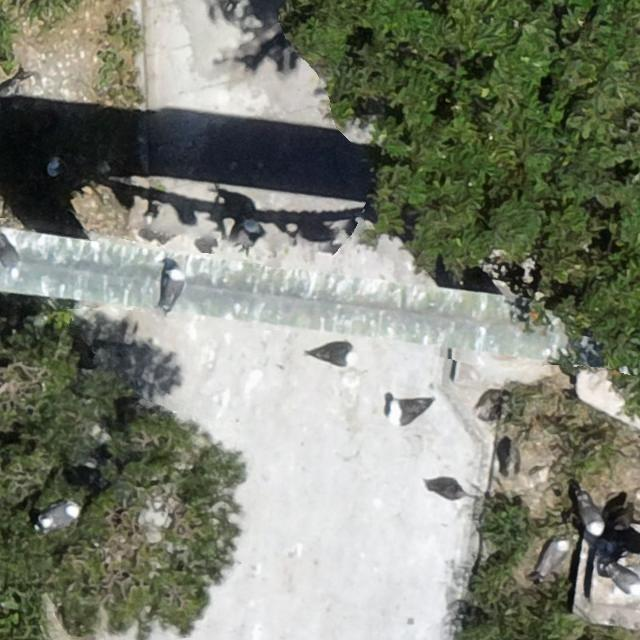umineko: (386, 396, 436, 428), (41, 502, 77, 528), (579, 498, 602, 534), (540, 540, 567, 570), (163, 270, 181, 307), (318, 346, 354, 364), (613, 571, 640, 595), (48, 157, 62, 177)
